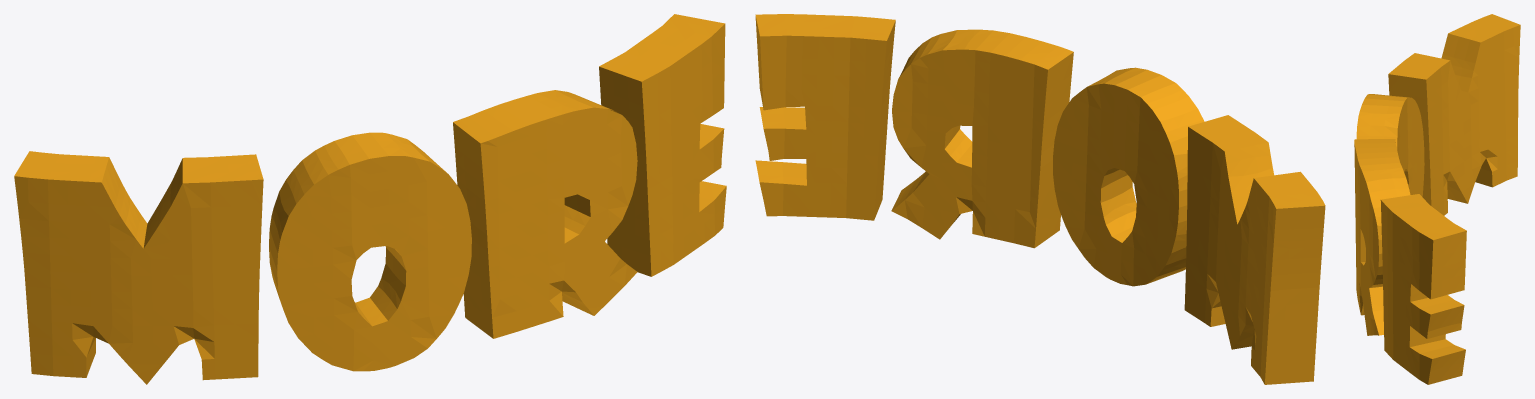
File: roadmap_more.glb
3 renders of one model, left to right at view 1: azimuth 30°, elevation 25°; view 2: azimuth 150°, elevation 25°; view 3: azimuth 270°, elevation 25°, orthographic. The views are drawn at different scales.
Parts seen in each view (by area): view 1: Text.011; view 2: Text.011; view 3: Text.011.
Part boxes in pixels (x1,y1,x2,y2): Text.011: (14,14,726,384); Text.011: (755,14,1325,384); Text.011: (1354,14,1520,384).
Size of the model in its own units: 1.19 by 0.3732 by 0.3481.
